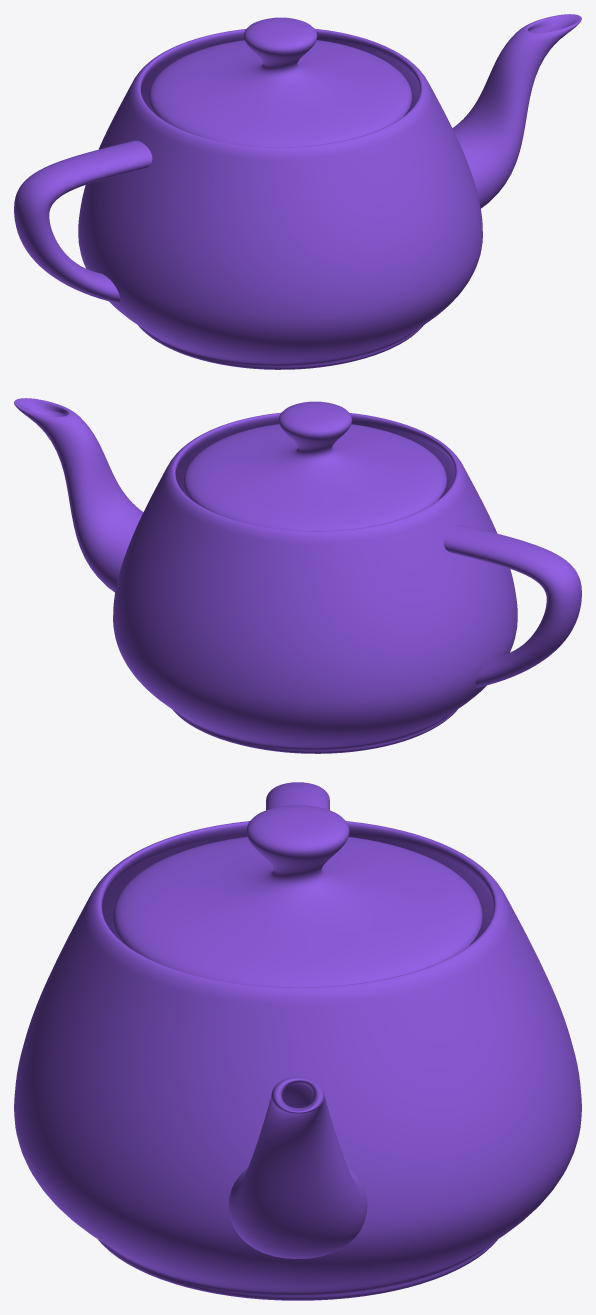
File: teapot-12kverts.DAE
3 views of the same model, one above another, from view 1: azimuth 30°, elevation 25°; view 2: azimuth 150°, elevation 25°; view 3: azimuth 270°, elevation 25° (orthographic). The views are drawn at different scales.
Parts seen in each view (by area): view 1: Teapot01; view 2: Teapot01; view 3: Teapot01.
Boxes of the visible parts, left/top/right/bottom form: Teapot01: left=14, top=14, right=581, bottom=369; Teapot01: left=14, top=398, right=581, bottom=753; Teapot01: left=14, top=782, right=581, bottom=1300.
Bounding box in the file's own units: 78.97 × 49.09 × 38.66.
